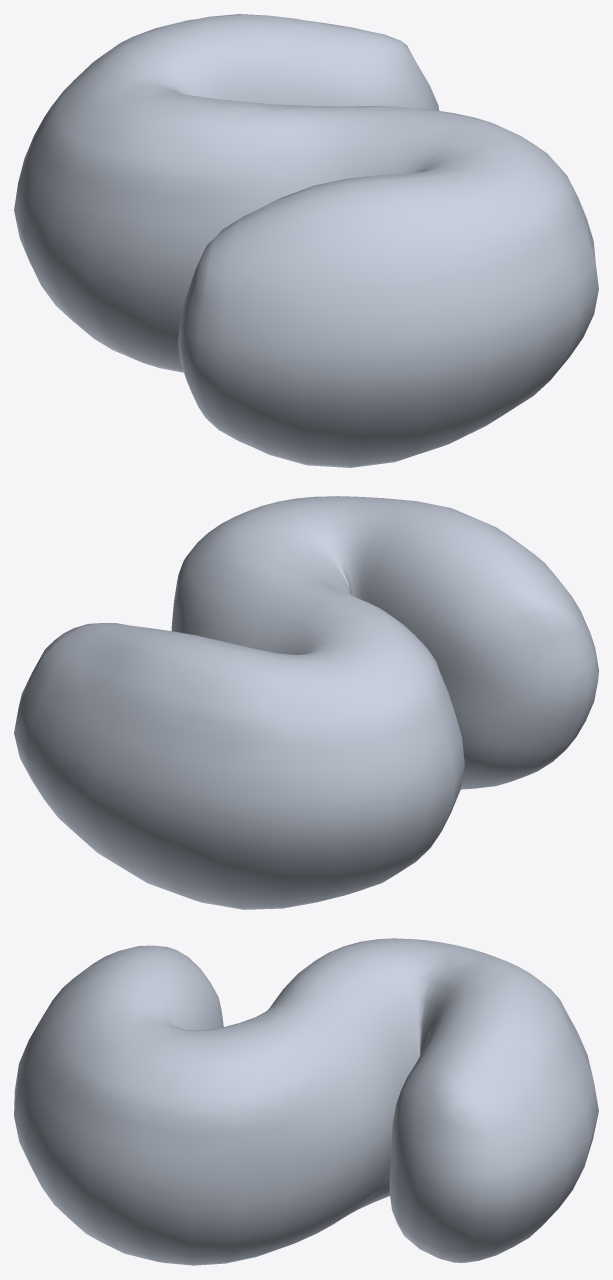
3 views of the same model, one above another, from view 1: azimuth 30°, elevation 25°; view 2: azimuth 150°, elevation 25°; view 3: azimuth 270°, elevation 25° (orthographic). The views are drawn at different scales.
Parts seen in each view (by area): view 1: S; view 2: S; view 3: S.
Boxes of the visible parts, x1,y1,x2,y2 form: S: (14,14,598,467); S: (14,496,598,909); S: (14,938,598,1265).
Bounding box in the file's own units: 0.7247 × 0.4456 × 0.9587.
